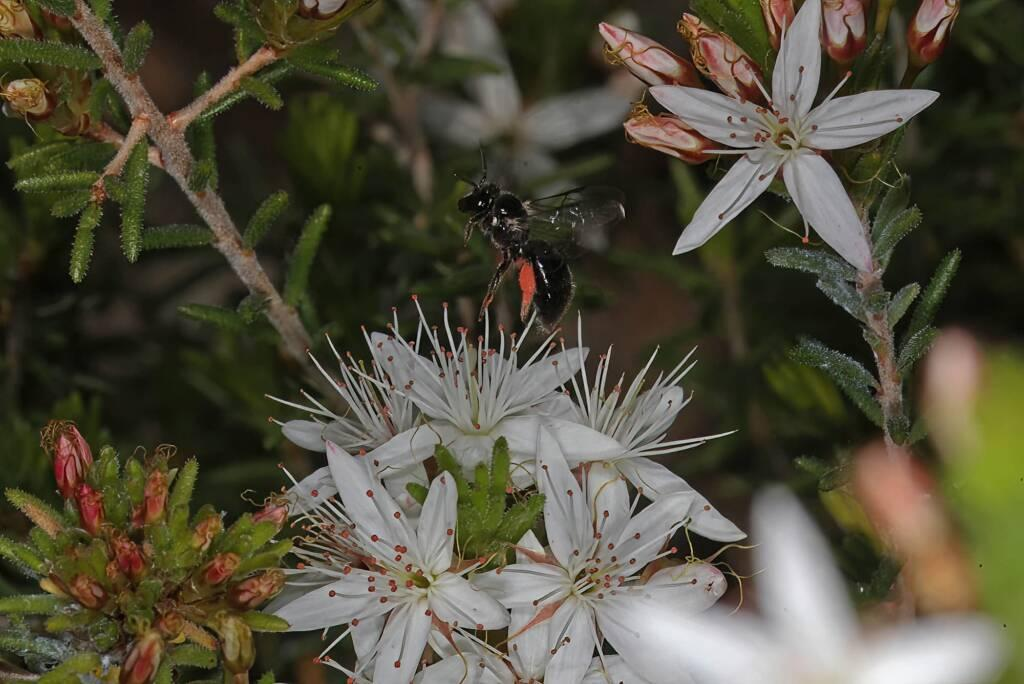Braunsapis: (444, 155, 613, 337)
